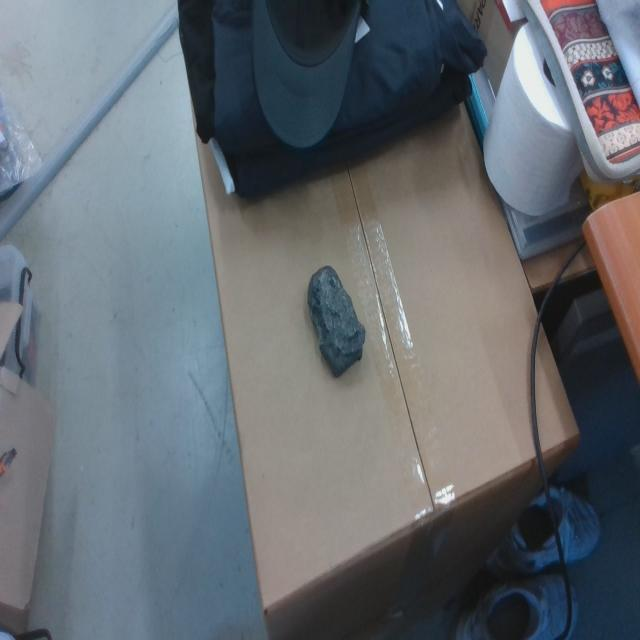stone: (308, 265, 367, 379)
